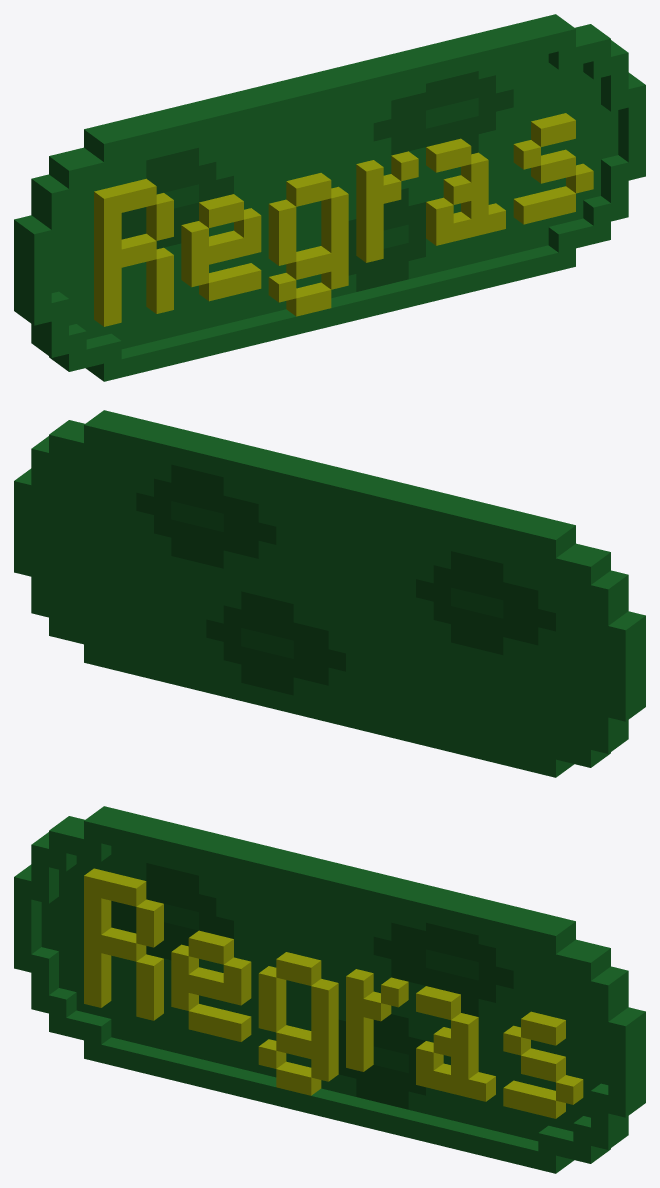
File: 5_3 regras.obj
3 renders of one model, top to bottom at view 1: azimuth 30°, elevation 25°; view 2: azimuth 150°, elevation 25°; view 3: azimuth 330°, elevation 25°, orthographic.
Bounding box in the file's own units: 3.5 × 1.3 × 0.2.
Materials: 1 (1 with a texture image).
